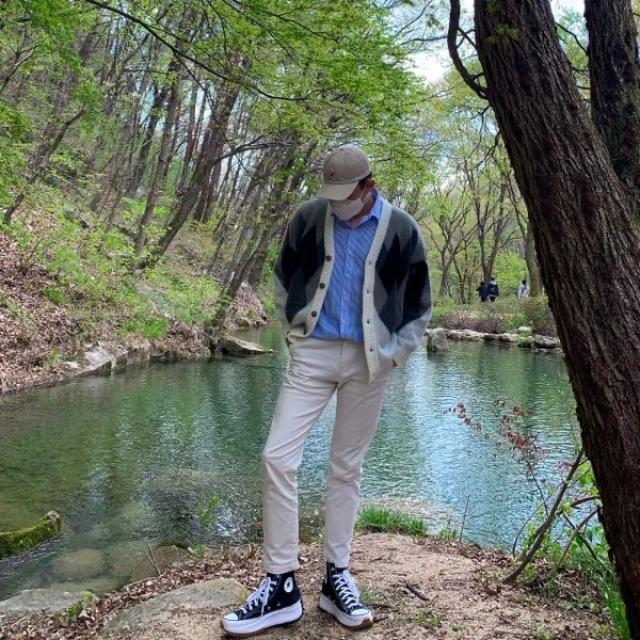cardigan: (270, 195, 434, 379)
cottonpants: (261, 330, 385, 576)
